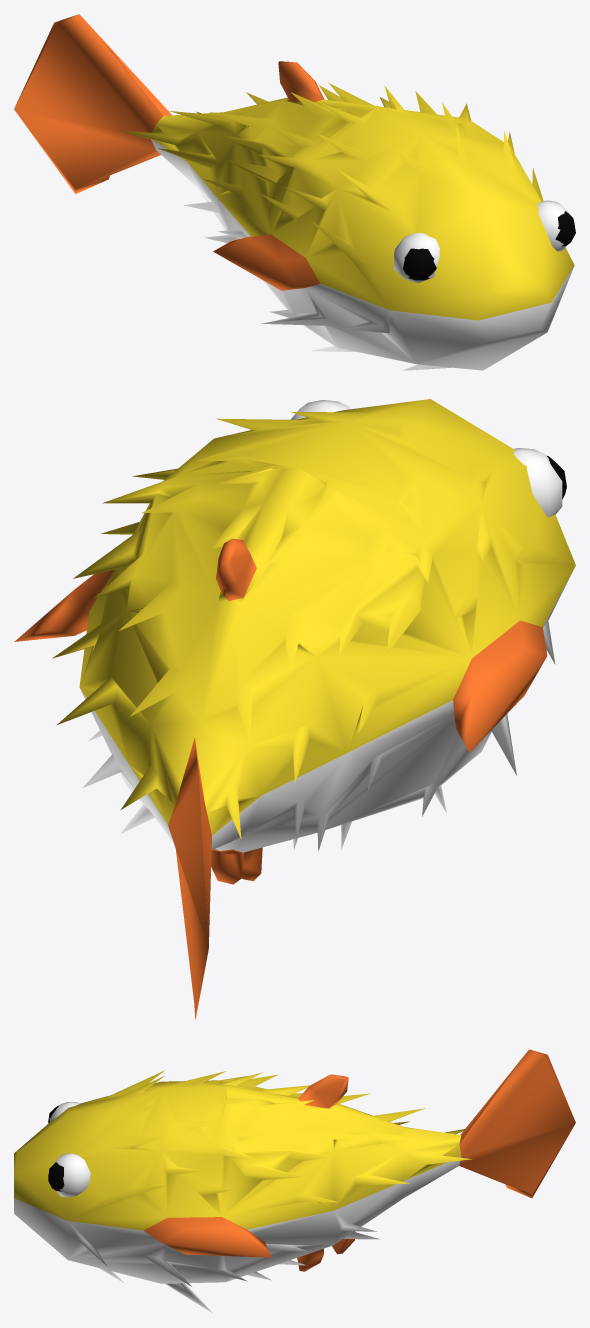
The model's file is PEZGLOBOPequennoANIMACION.fbx.
3 views of the same model, one above another, from view 1: azimuth 30°, elevation 25°; view 2: azimuth 150°, elevation 25°; view 3: azimuth 270°, elevation 25° (orthographic). The views are drawn at different scales.
Parts seen in each view (by area): view 1: Cylinder023, Sphere060, Sphere061; view 2: Cylinder023, Sphere060; view 3: Cylinder023, Sphere060, Sphere061.
Boxes of the visible parts, left/top/right/bottom form: Cylinder023: left=14, top=14, right=574, bottom=370; Sphere060: left=394, top=200, right=571, bottom=282; Sphere061: left=403, top=211, right=575, bottom=280; Cylinder023: left=14, top=399, right=575, bottom=1019; Sphere060: left=291, top=400, right=562, bottom=517; Cylinder023: left=14, top=1049, right=575, bottom=1312; Sphere060: left=49, top=1102, right=90, bottom=1197; Sphere061: left=48, top=1105, right=64, bottom=1191.
Size of the model in its own units: 13.4 by 9.61 by 25.45.
